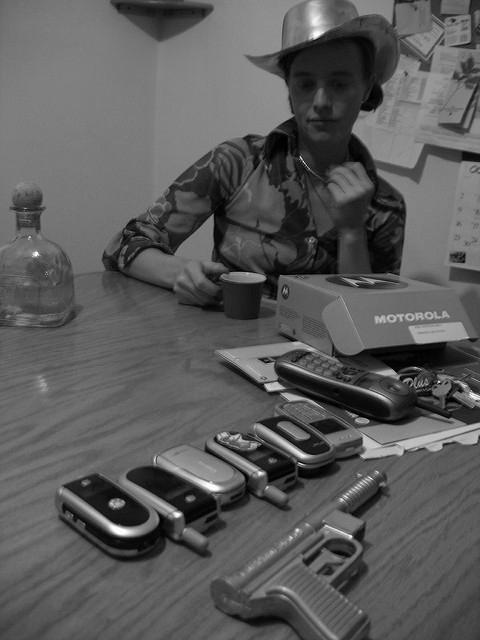glass: (0, 182, 77, 326), (220, 272, 265, 318)
